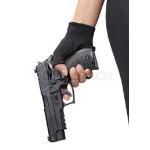Pistol: (33, 46, 99, 142)
